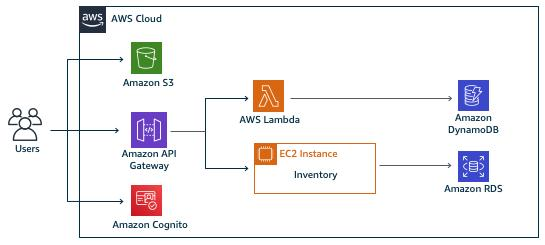API-Gateway: (129, 111, 168, 149)
Cognito: (130, 184, 165, 218)
Dynamo DB: (457, 77, 492, 113)
EC2: (254, 142, 279, 165)
Lambda: (252, 80, 286, 113)
RDS: (458, 149, 491, 183)
S3: (130, 40, 163, 77)
Users: (6, 102, 47, 143)
aws: (79, 5, 107, 33)
